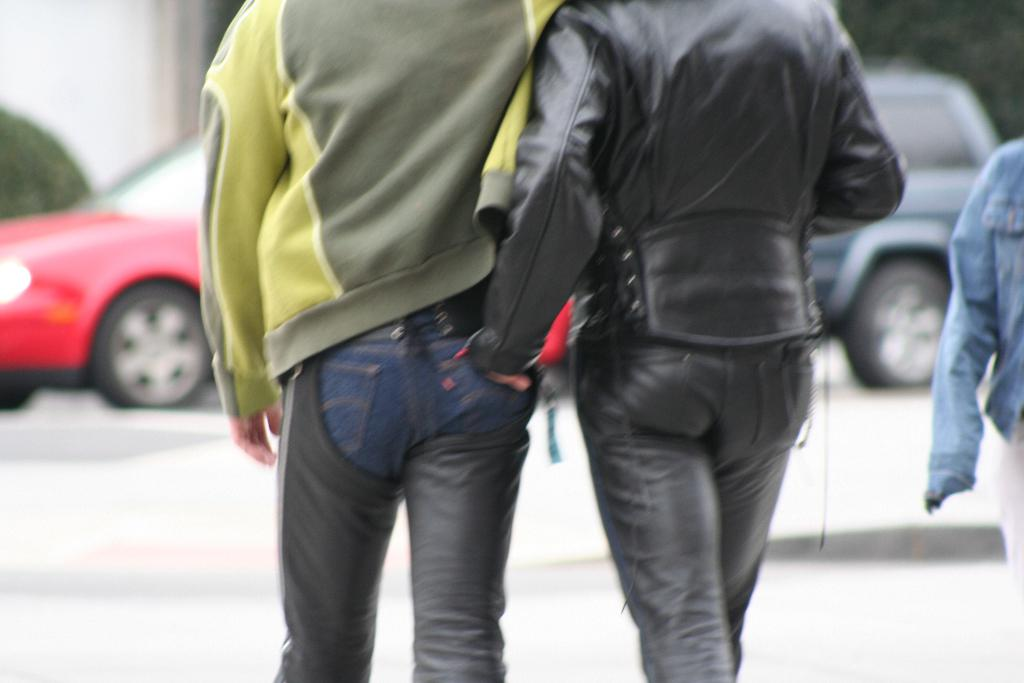Car: (0, 121, 576, 411), (809, 55, 1002, 391)
